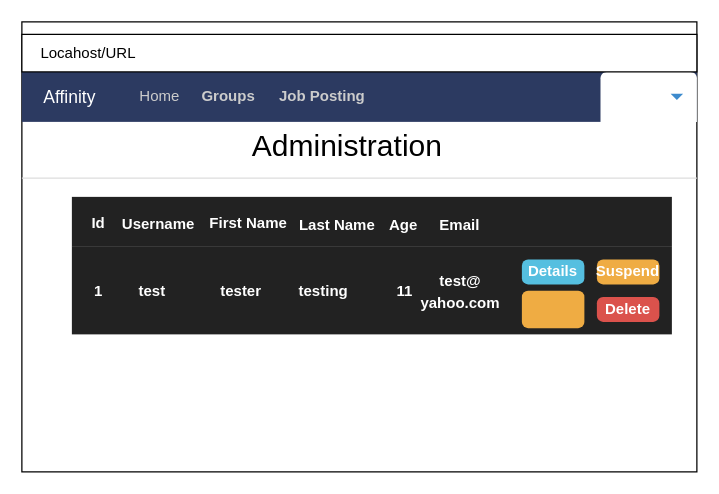
Image size: 719x494. Some labels were removed from this diagram. The centre of each missing label's shape, as x and y in pixels:
Admin: (648,96)
Make Admin: (552,309)
